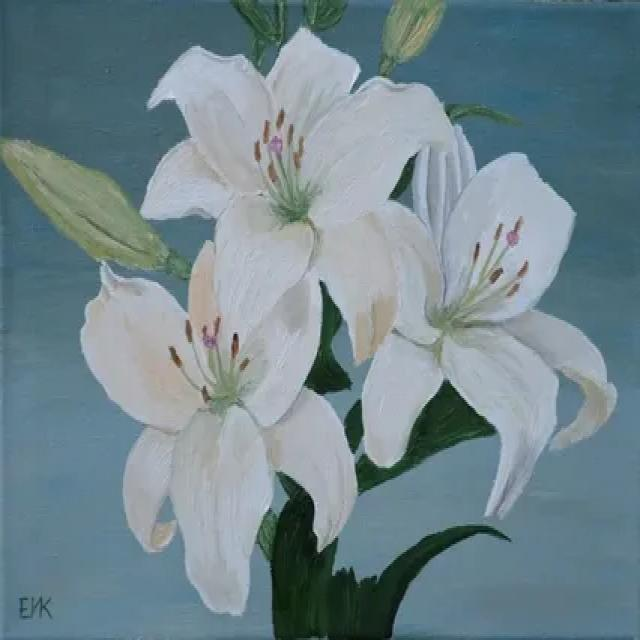lily: (128, 11, 450, 362)
